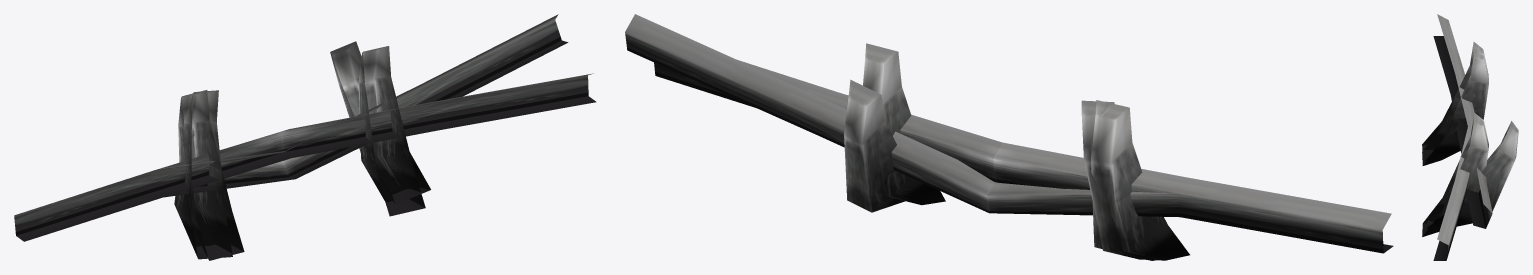
Rendered from fbmp_lr_bl1.glb.
3 renders of one model, left to right at view 1: azimuth 30°, elevation 25°; view 2: azimuth 150°, elevation 25°; view 3: azimuth 270°, elevation 25°, orthographic. The views are drawn at different scales.
Parts seen in each view (by area): view 1: fbmp_lr_bl1, fbmp_lr_bl1_dam; view 2: fbmp_lr_bl1_dam, fbmp_lr_bl1; view 3: fbmp_lr_bl1, fbmp_lr_bl1_dam.
Boxes of the visible parts, bbox=[...] form: fbmp_lr_bl1: bbox=[14, 46, 596, 260]; fbmp_lr_bl1_dam: bbox=[154, 14, 568, 259]; fbmp_lr_bl1_dam: bbox=[625, 14, 1189, 260]; fbmp_lr_bl1: bbox=[654, 43, 1393, 260]; fbmp_lr_bl1: bbox=[1422, 14, 1488, 260]; fbmp_lr_bl1_dam: bbox=[1422, 45, 1518, 228].
Bounding box in the file's own units: 2 × 0.4777 × 0.3627.
Materials: 1 (1 with a texture image).
